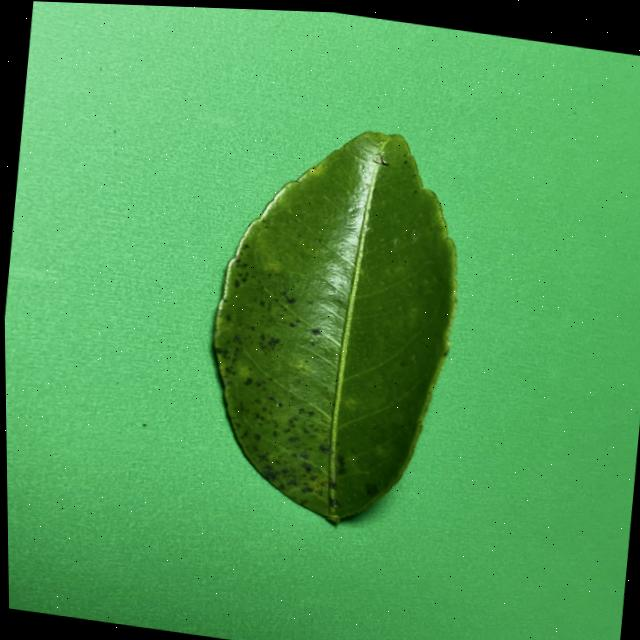sooty_mold: (212, 131, 455, 523)
